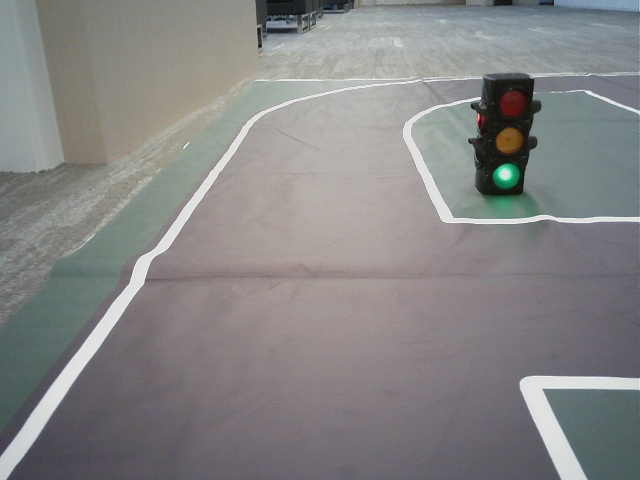green: (488, 81, 527, 190)
